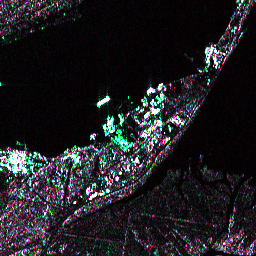ship: (95, 93, 111, 108)
